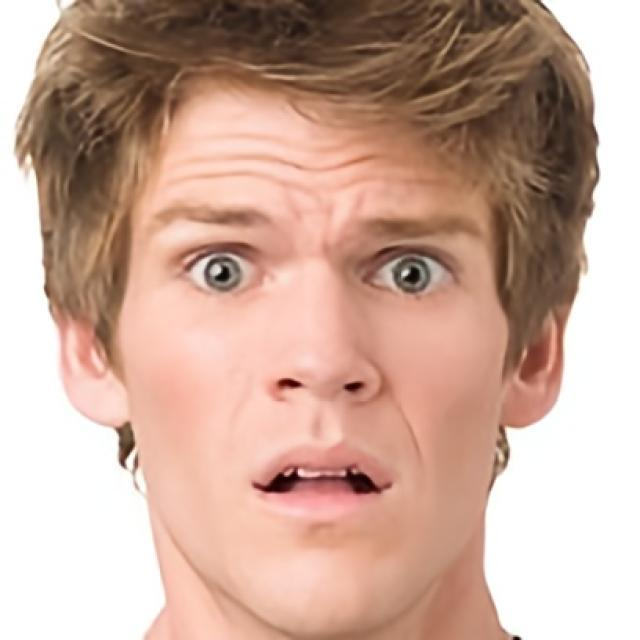Fear: (127, 77, 510, 636)
